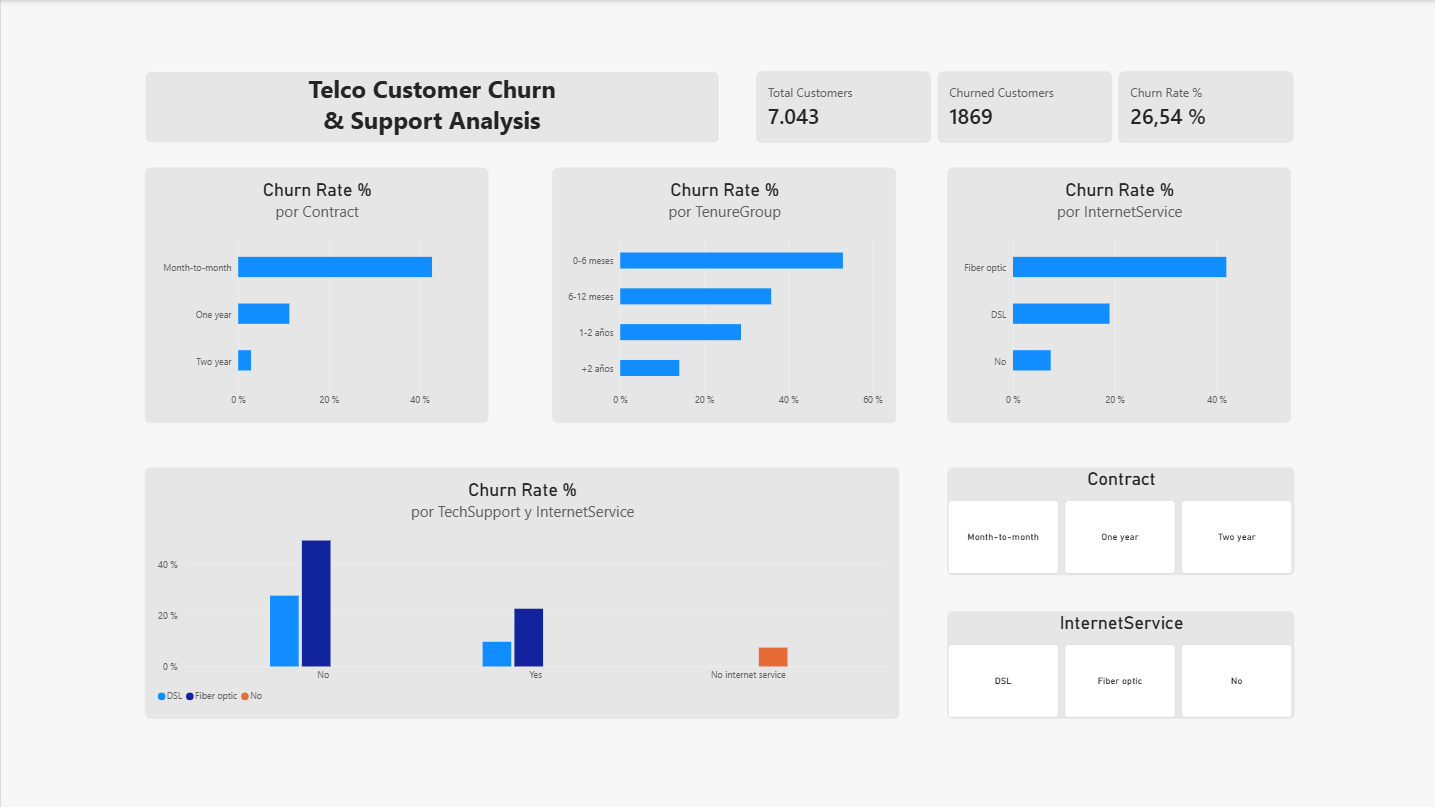

The page's visual inventory and layout, read from the dashboard file:
{"tool":"powerbi","page":{"name":"Página 1","canvas":[1920,1080],"ordinal":0},"visuals":[{"type":"cardVisual","fields":{"Data":["telco_churn_clean.Total Customers","telco_churn_clean.Churned Customers","telco_churn_clean.Churn Rate %"]},"box":[1008,96,720,96],"z":0},{"type":"textbox","box":[192,96,768,96],"z":2000},{"type":"clusteredBarChart","fields":{"Category":["telco_churn_clean.Contract"],"Y":["telco_churn_clean.Churn Rate %"]},"box":[192,224,459.1,341.4],"z":3000},{"type":"clusteredBarChart","fields":{"Category":["telco_churn_clean.TenureGroup"],"Y":["telco_churn_clean.Churn Rate %"]},"box":[736,224,459.1,341.4],"z":4000},{"type":"clusteredBarChart","fields":{"Category":["telco_churn_clean.InternetService"],"Y":["telco_churn_clean.Churn Rate %"]},"box":[1264,224,459.1,341.4],"z":5000},{"type":"clusteredColumnChart","fields":{"Category":["telco_churn_clean.TechSupport"],"Series":["telco_churn_clean.InternetService"],"Y":["telco_churn_clean.Churn Rate %"]},"box":[192,624,1008,336],"z":6000},{"type":"advancedSlicerVisual","fields":{"Values":["telco_churn_clean.Contract"]},"box":[1264,624,464,144],"z":7000},{"type":"advancedSlicerVisual","fields":{"Values":["telco_churn_clean.InternetService"]},"box":[1264,816,464,144],"z":8000}]}

Visuals, with their boxes in screenshot pixels (x1, y1, x2, y2), scaled from the page's 1920x1080 canvas onto the 1435x807 screenshot:
cardVisual - telco_churn_clean.Total Customers x telco_churn_clean.Churned Customers: BBox(753, 72, 1292, 143)
textbox: BBox(144, 72, 718, 143)
clusteredBarChart - telco_churn_clean.Contract x telco_churn_clean.Churn Rate %: BBox(144, 167, 487, 422)
clusteredBarChart - telco_churn_clean.TenureGroup x telco_churn_clean.Churn Rate %: BBox(550, 167, 893, 422)
clusteredBarChart - telco_churn_clean.InternetService x telco_churn_clean.Churn Rate %: BBox(945, 167, 1288, 422)
clusteredColumnChart - telco_churn_clean.TechSupport x telco_churn_clean.InternetService: BBox(144, 466, 897, 717)
advancedSlicerVisual - telco_churn_clean.Contract: BBox(945, 466, 1292, 574)
advancedSlicerVisual - telco_churn_clean.InternetService: BBox(945, 610, 1292, 717)
